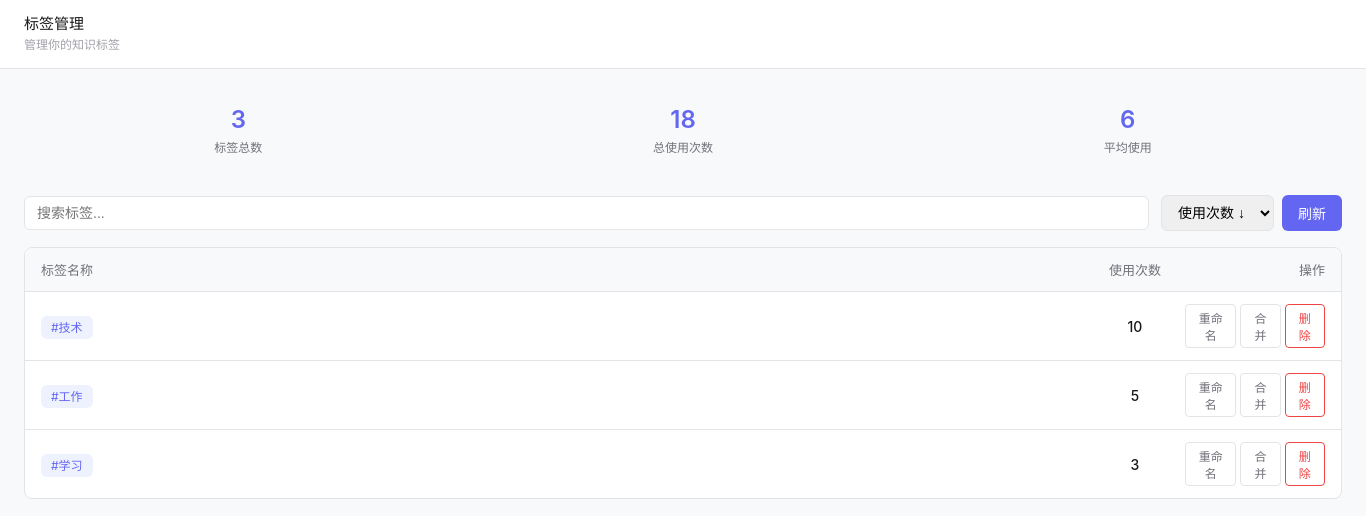
Test: TagsManagement Component › should enter edit mode when clicking tag name
Click the text "#技术": (67, 328) 41,316 -> 93,339
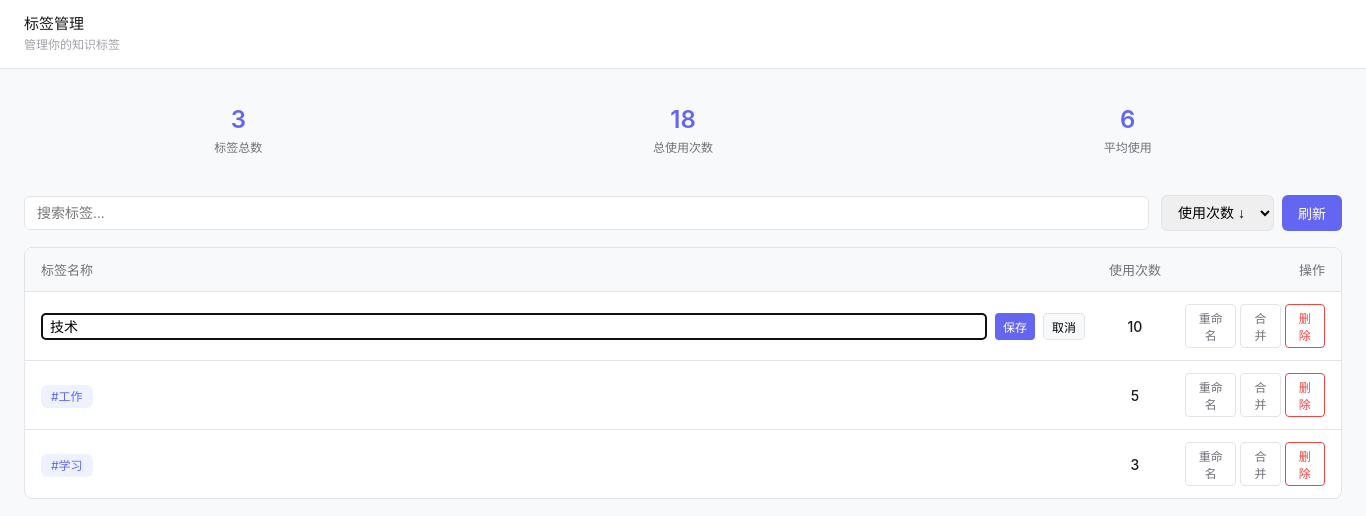
Check: the field showing "技术" is shown, box 41,312 -> 987,340
Check: the button "保存" is shown, box 995,312 -> 1035,340
Check: the button "取消" is shown, box 1043,312 -> 1085,340
